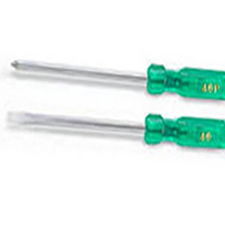screwdriver: (5, 105, 225, 162)
